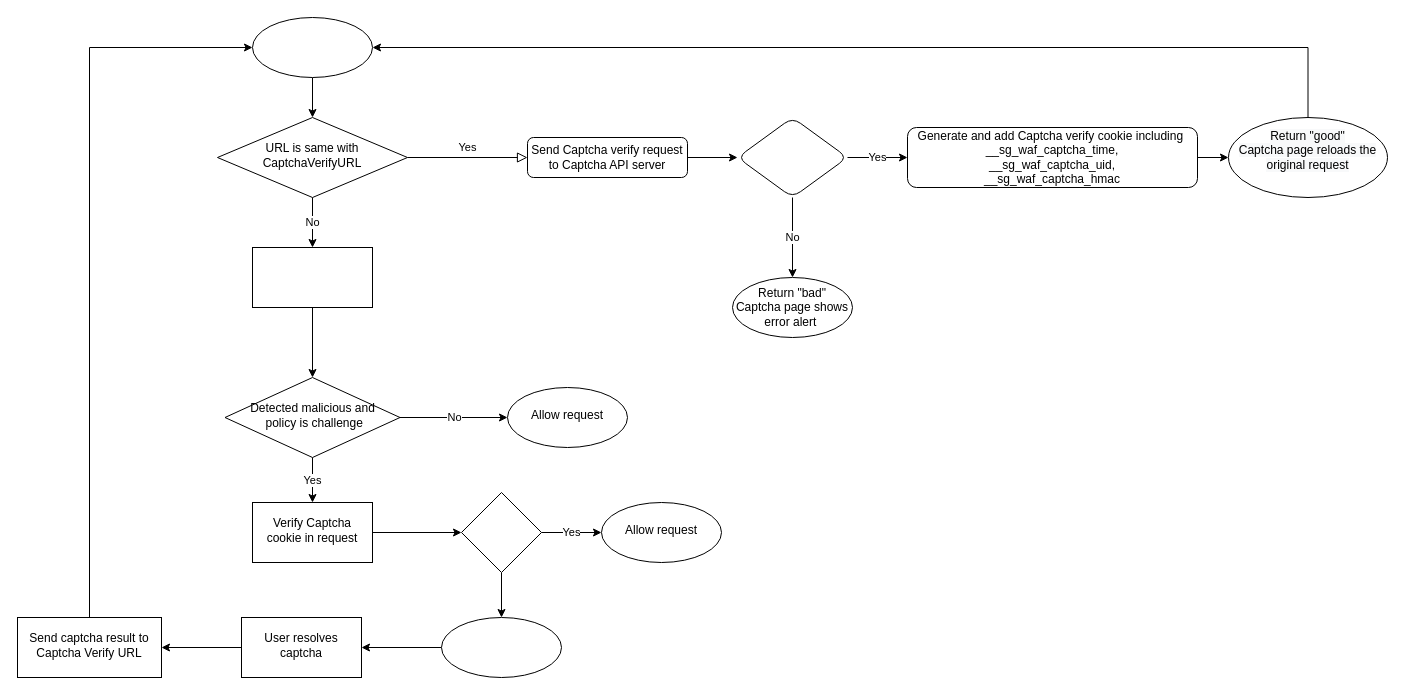
This 1405x695 diagram has some shape labels left out. The centre of each missing label's shape, as x and y in pixels:
Cookie is valid: the point at 501,532
Receive request: the point at 312,47
Response is Success: the point at 792,157
Show 503 Captcha page: the point at 501,647
Try to detect WAF signature: the point at 312,277
